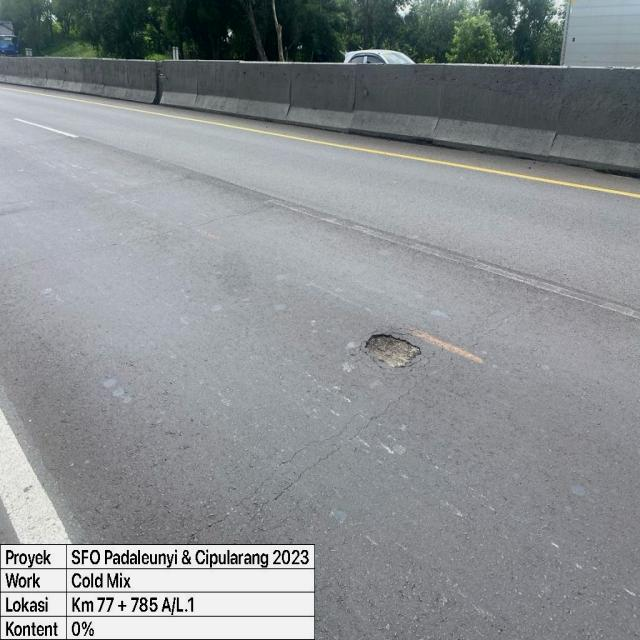Buraco: (362, 332, 425, 371)
